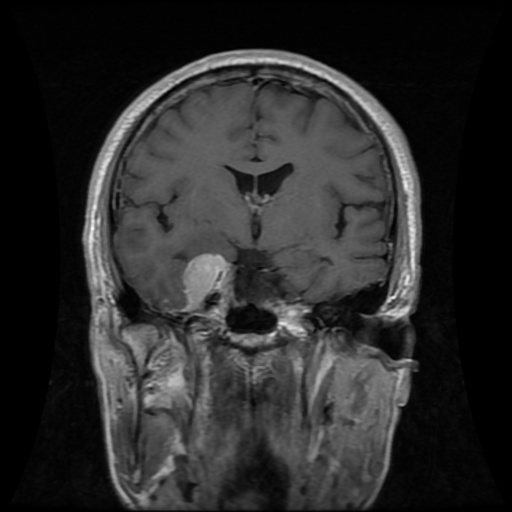meningioma: (182, 251, 233, 311)
